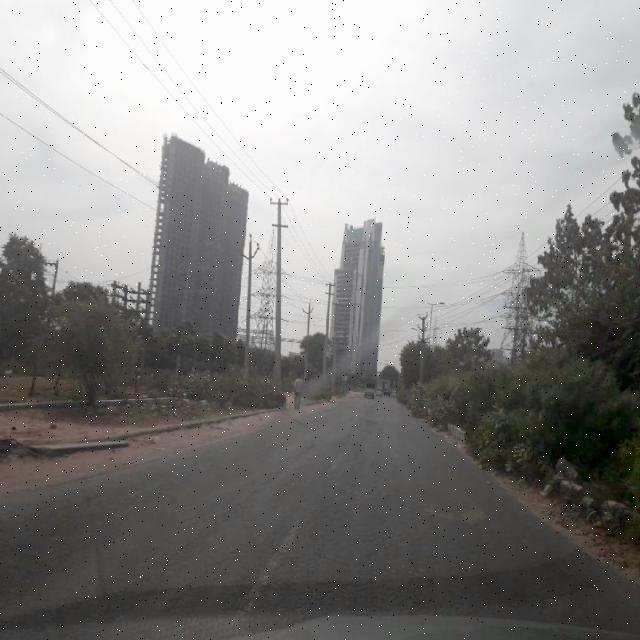D20: (112, 413, 468, 626)
D44: (230, 503, 302, 624)
